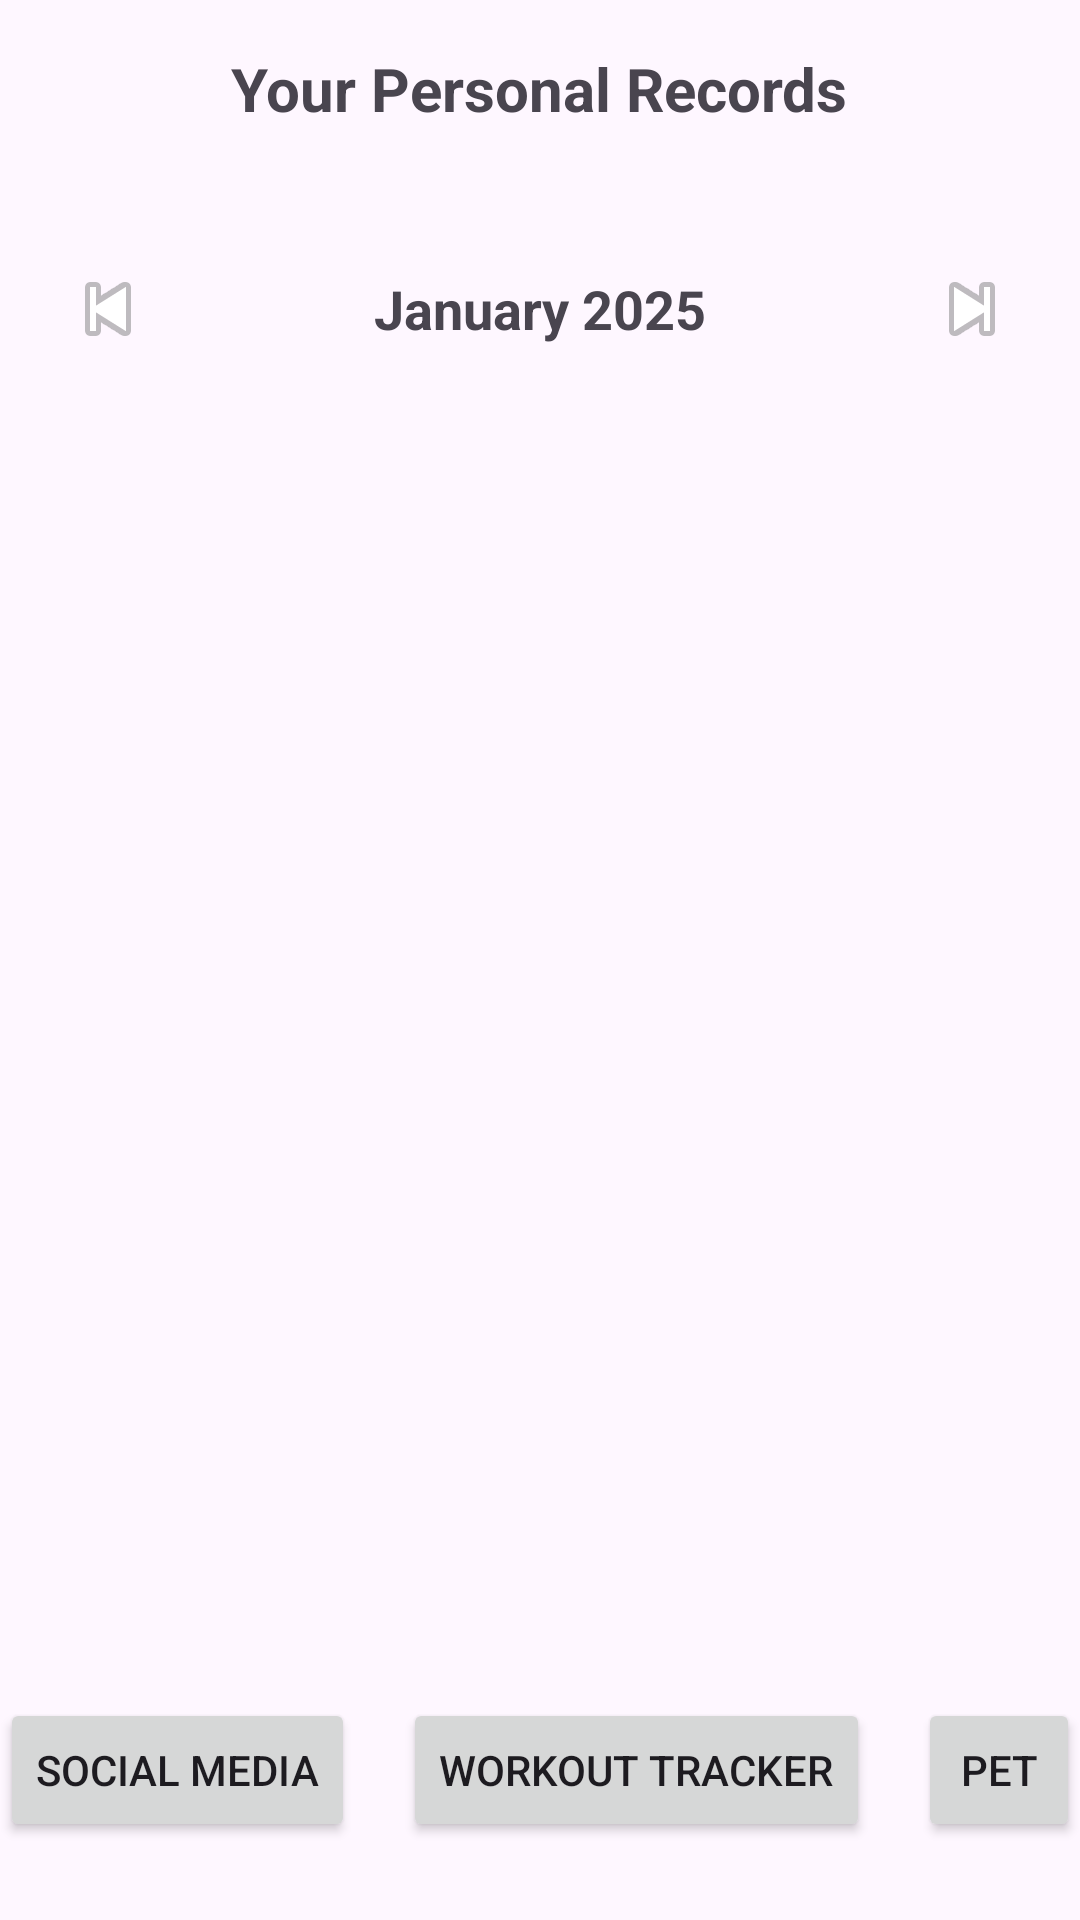

Locate icon controls on the screen. Image size 1080×1920, boxes as (x1, y1, x2, y2).
Next Month: (949, 282, 995, 336)
Previous Month: (85, 282, 131, 336)
